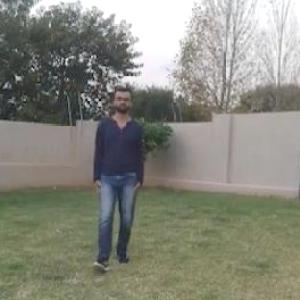follow: (93, 80, 141, 272)
